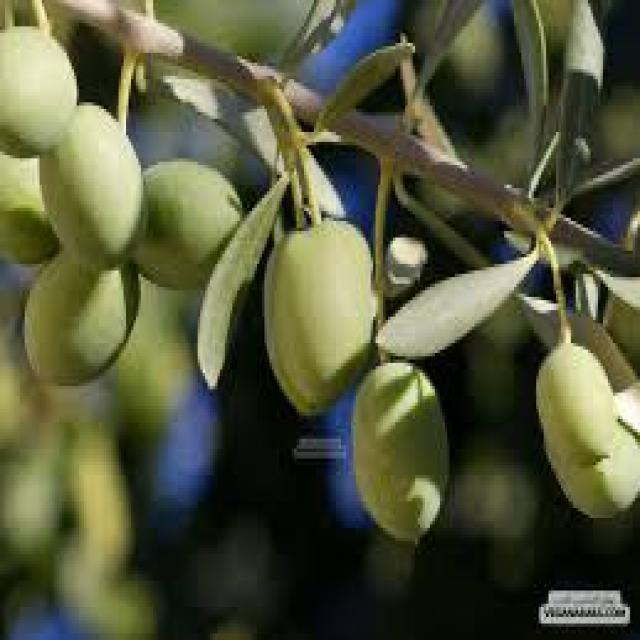Healthy: (264, 218, 376, 412), (351, 363, 448, 548), (40, 102, 146, 267)
